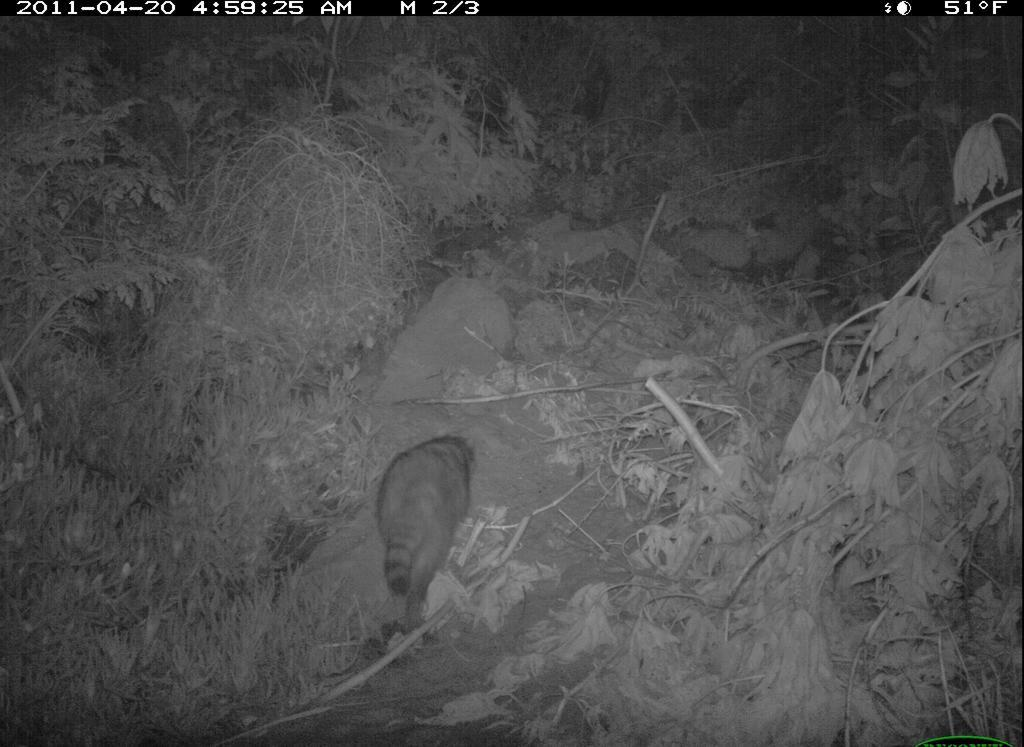raccoon: (373, 432, 478, 632)
